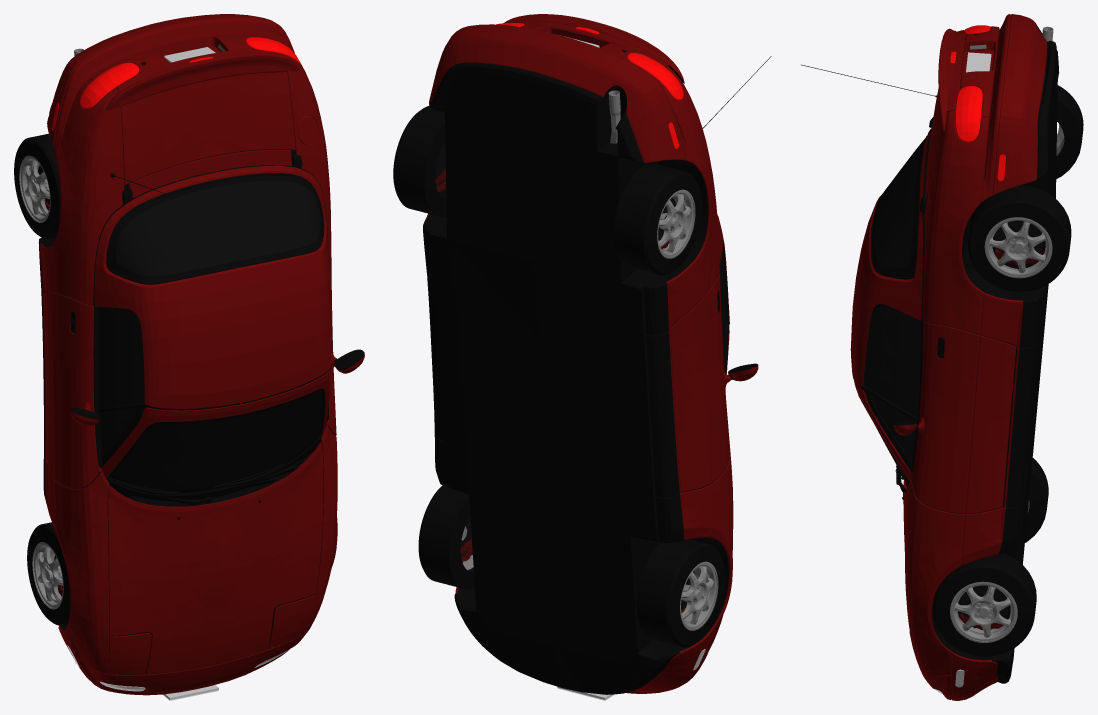
Rendered from mazda_mx5_miata_aligned.obj.
The picture shows the model from 3 angles, left to right: view 1: azimuth 30°, elevation 25°; view 2: azimuth 150°, elevation 25°; view 3: azimuth 270°, elevation 25°; orthographic projection. The views are drawn at different scales.
Visible parts, largest first — view 1: Mazda_MX5_Miata_Paint_0, Mazda_MX5_Miata_Windows_0, Mazda_MX5_Miata_Black_0, Pop_ups_Paint_0, Rear_Wheels_Black_0, Mazda_MX5_Miata_Red_Lights_0, Front_Right_Wheels_Black_0, Front_Right_Wheels_Rims_0, Rear_Wheels_Rims_0, Mazda_MX5_Miata_Licence_Plate_0; view 2: Mazda_MX5_Miata_Black_0, Mazda_MX5_Miata_Paint_0, Rear_Wheels_Black_0, Front_Right_Wheels_Black_0, Front_Left_Wheels_Black_0, Front_Right_Wheels_Rims_0, Rear_Wheels_Rims_0, Mazda_MX5_Miata_Red_Lights_0; view 3: Mazda_MX5_Miata_Paint_0, Mazda_MX5_Miata_Black_0, Mazda_MX5_Miata_Windows_0, Rear_Wheels_Black_0, Front_Left_Wheels_Black_0, Rear_Wheels_Rims_0, Front_Left_Wheels_Rims_0, Mazda_MX5_Miata_Red_Lights_0, Front_Right_Wheels_Black_0, Rear_Wheels_Disk_0, Front_Left_Wheels_Disk_0, Mazda_MX5_Miata_Licence_Plate_0.
Boxes of the visible parts, box(x1,y1,x2,y2) form: Mazda_MX5_Miata_Paint_0: box(39, 14, 364, 695); Mazda_MX5_Miata_Windows_0: box(99, 180, 322, 490); Mazda_MX5_Miata_Black_0: box(38, 53, 364, 674); Pop_ups_Paint_0: box(108, 594, 315, 674); Rear_Wheels_Black_0: box(14, 133, 60, 239); Mazda_MX5_Miata_Red_Lights_0: box(52, 37, 301, 129); Front_Right_Wheels_Black_0: box(27, 522, 70, 625); Front_Right_Wheels_Rims_0: box(32, 542, 63, 609); Rear_Wheels_Rims_0: box(19, 155, 50, 222); Mazda_MX5_Miata_Licence_Plate_0: box(162, 47, 218, 700); Mazda_MX5_Miata_Black_0: box(423, 21, 771, 694); Mazda_MX5_Miata_Paint_0: box(425, 14, 758, 693); Rear_Wheels_Black_0: box(393, 105, 702, 275); Front_Right_Wheels_Black_0: box(636, 539, 725, 647); Front_Left_Wheels_Black_0: box(418, 485, 474, 589); Front_Right_Wheels_Rims_0: box(680, 561, 718, 630); Rear_Wheels_Rims_0: box(657, 189, 695, 258); Mazda_MX5_Miata_Red_Lights_0: box(496, 23, 683, 148); Mazda_MX5_Miata_Paint_0: box(850, 14, 1047, 700); Mazda_MX5_Miata_Black_0: box(801, 26, 1059, 683); Mazda_MX5_Miata_Windows_0: box(865, 142, 921, 478); Rear_Wheels_Black_0: box(968, 85, 1083, 291); Front_Left_Wheels_Black_0: box(933, 553, 1036, 656); Rear_Wheels_Rims_0: box(984, 124, 1064, 278); Front_Left_Wheels_Rims_0: box(950, 581, 1017, 642); Mazda_MX5_Miata_Red_Lights_0: box(950, 25, 1005, 181); Front_Right_Wheels_Black_0: box(1025, 458, 1048, 542); Rear_Wheels_Disk_0: box(995, 220, 1043, 252); Front_Left_Wheels_Disk_0: box(960, 585, 1008, 617); Mazda_MX5_Miata_Licence_Plate_0: box(966, 52, 991, 72).
Bounding box in the file's own units: 0.7195 × 1.57 × 0.6277.
